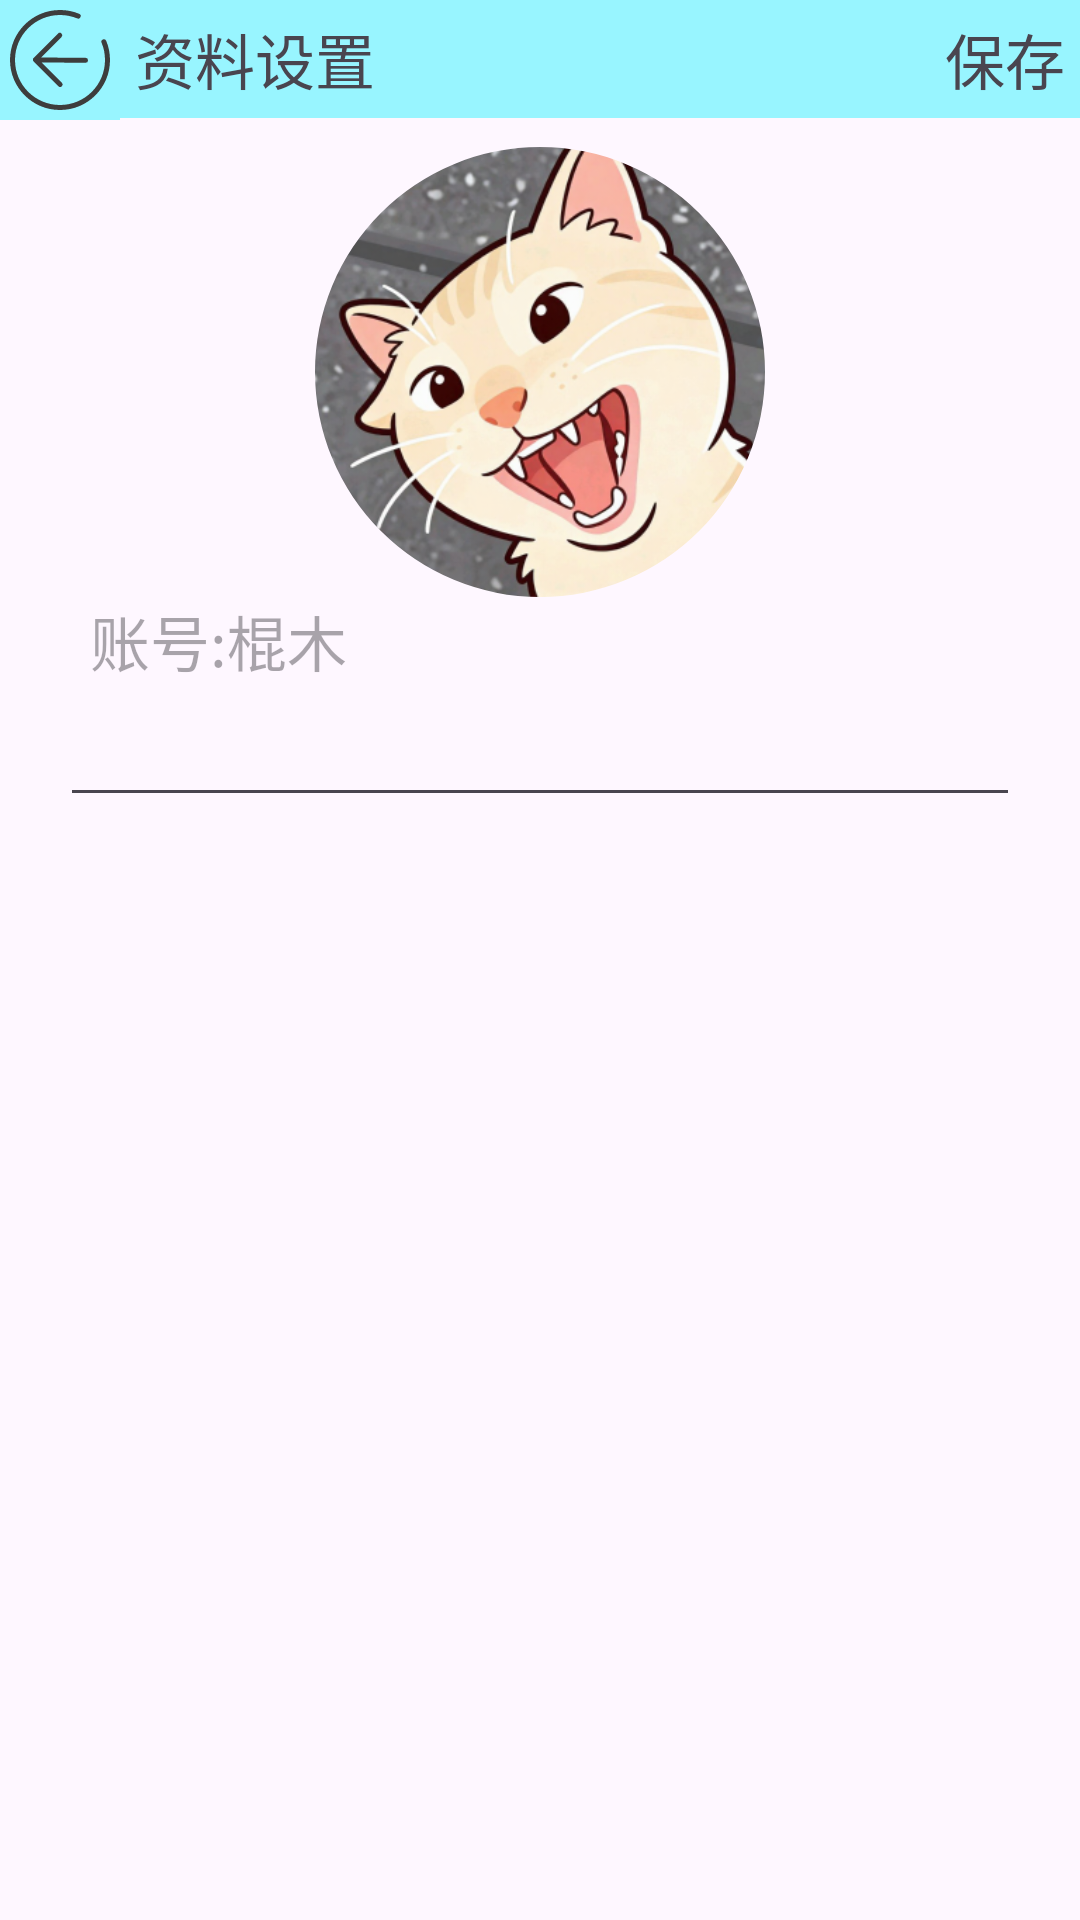

Where to tap for icons on this 1080x1920 app screen, as point (x, y):
back: point (60, 60)
